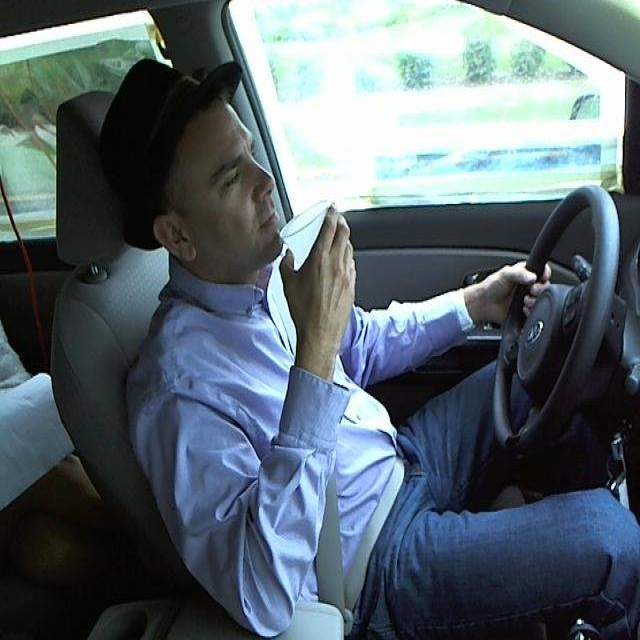drinking: (278, 194, 355, 312)
